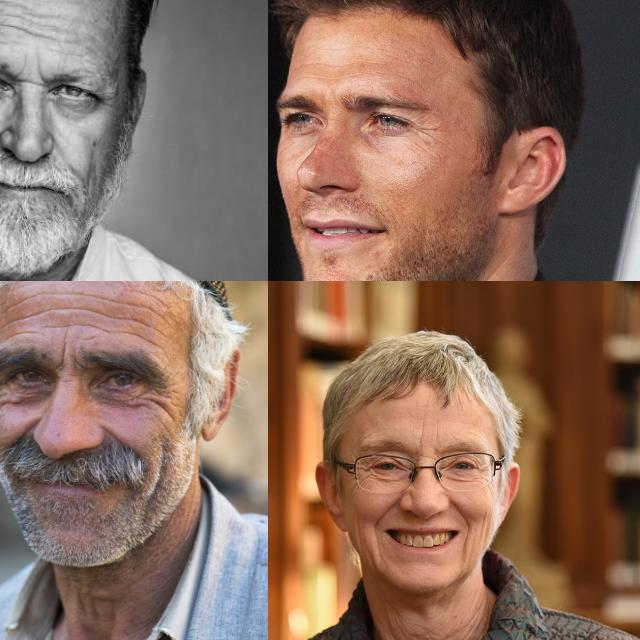crows_feet: (141, 378, 179, 414), (414, 116, 438, 144), (0, 379, 16, 409), (356, 461, 369, 482), (476, 462, 489, 483)
forehead: (122, 290, 164, 330), (62, 284, 115, 312), (32, 10, 64, 46), (54, 313, 98, 339), (126, 329, 166, 355), (4, 286, 41, 314), (0, 0, 27, 37), (6, 313, 36, 342), (318, 70, 366, 86)
frown_line: (51, 333, 74, 372), (15, 71, 47, 91), (415, 424, 425, 451), (433, 422, 443, 448)
gummy_smile: (103, 424, 135, 456), (370, 492, 400, 526), (12, 415, 38, 445), (449, 497, 473, 527)
masseter: (148, 439, 170, 501), (478, 508, 492, 540), (353, 516, 365, 550)
sad_smile: (372, 532, 386, 560), (461, 534, 472, 566)
